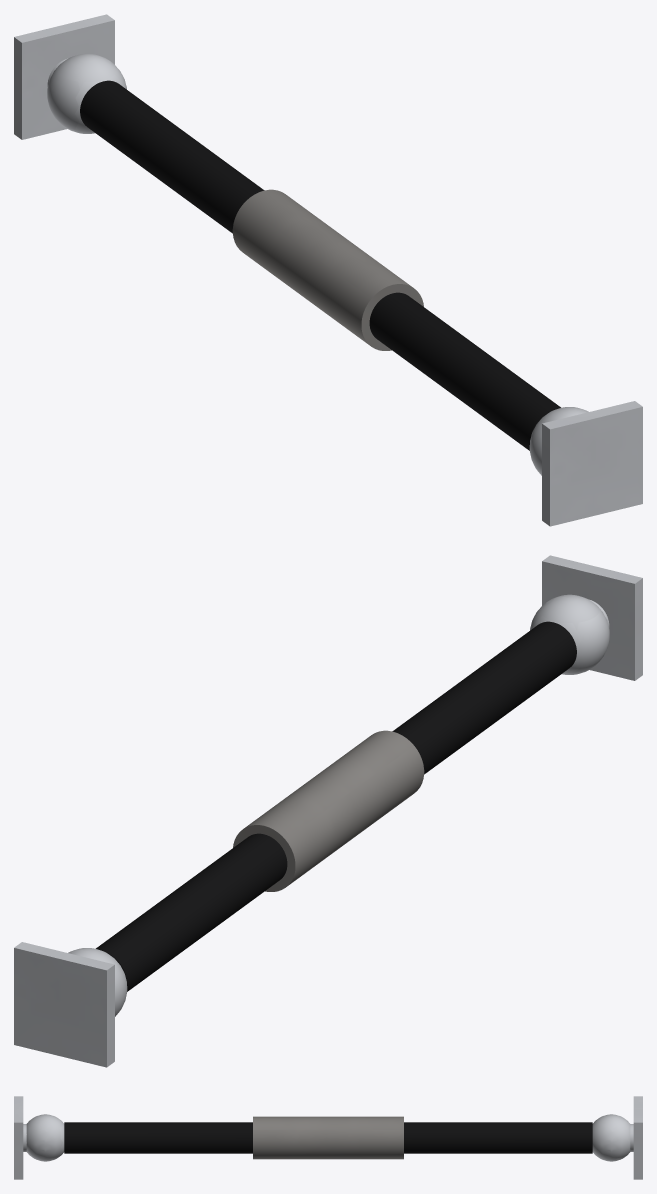
The model's file is struct02_strut.glb.
The picture shows the model from 3 angles, top to bottom: view 1: azimuth 30°, elevation 25°; view 2: azimuth 150°, elevation 25°; view 3: azimuth 270°, elevation 25°; orthographic projection. The views are drawn at different scales.
Parts seen in each view (by area): view 1: tube, sleeve, end_b, end_a; view 2: tube, sleeve, end_a, end_b; view 3: tube, sleeve, end_a, end_b.
Boxes of the visible parts, x1,y1,x2,y2 form: tube: [80, 80, 560, 450]; sleeve: [232, 189, 423, 350]; end_b: [529, 401, 642, 526]; end_a: [14, 14, 126, 139]; tube: [96, 621, 576, 991]; sleeve: [233, 730, 424, 891]; end_a: [14, 942, 127, 1067]; end_b: [530, 555, 642, 680]; tube: [64, 1122, 592, 1153]; sleeve: [253, 1116, 403, 1159]; end_a: [592, 1096, 642, 1179]; end_b: [14, 1096, 64, 1179].
Bounding box in the file's own units: 0.1 × 0.1 × 1.
Materials: 3 (2 with a texture image).
